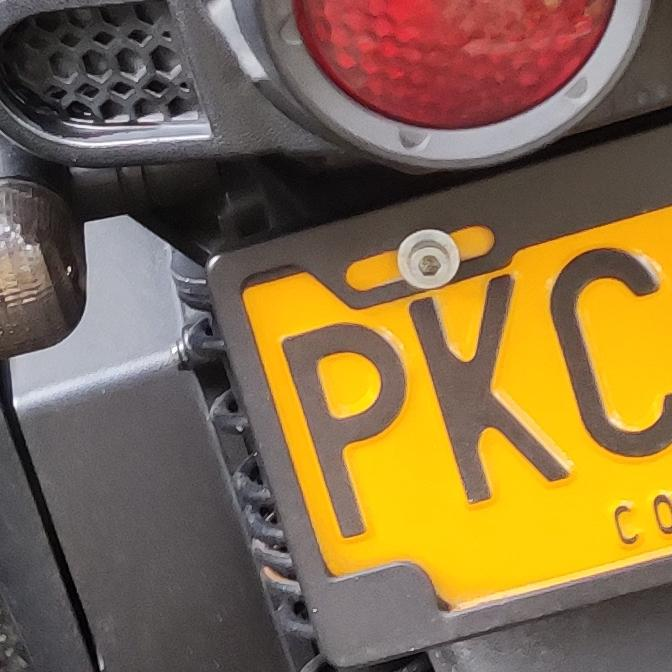plates: (205, 140, 672, 658)
